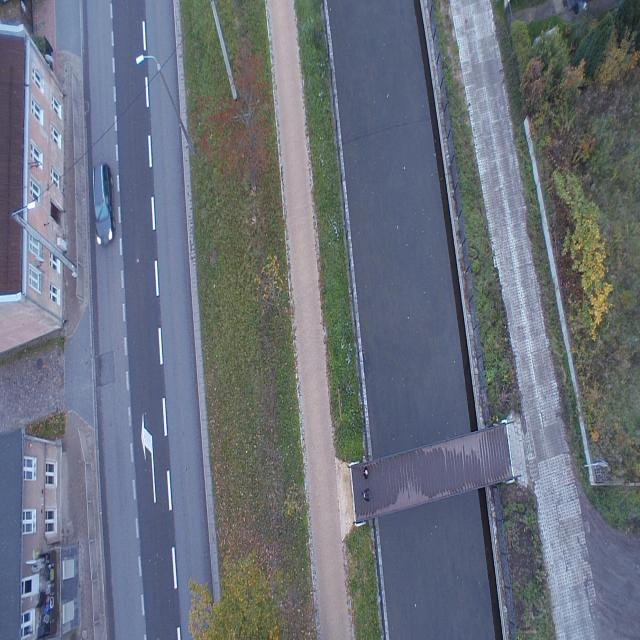p3rson: (362, 488, 370, 502), (363, 466, 369, 479)
